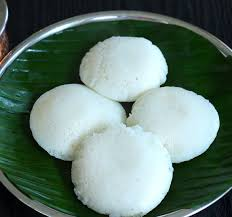idli: (25, 36, 221, 217)
